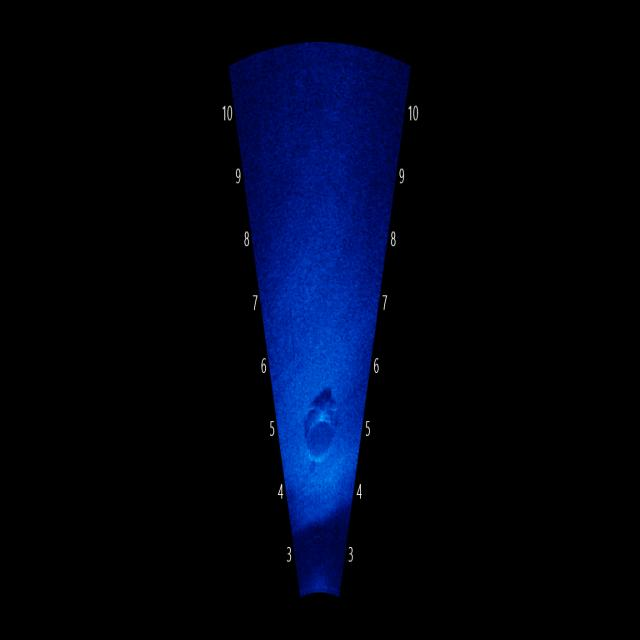circle: (297, 379, 348, 474)
